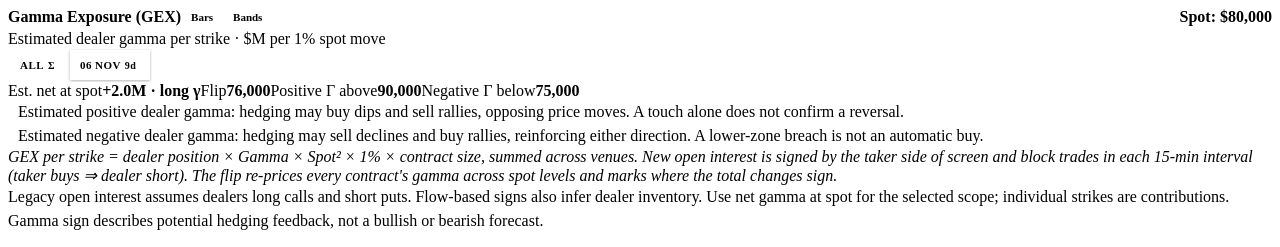
GexView spot reference › uses the aggregate reference when all expiries are selected
What coordinates should you click on to do the following:
click the button "ALL Σ"
I would click on:
 (39, 65)
Its box is [10,50,69,80].
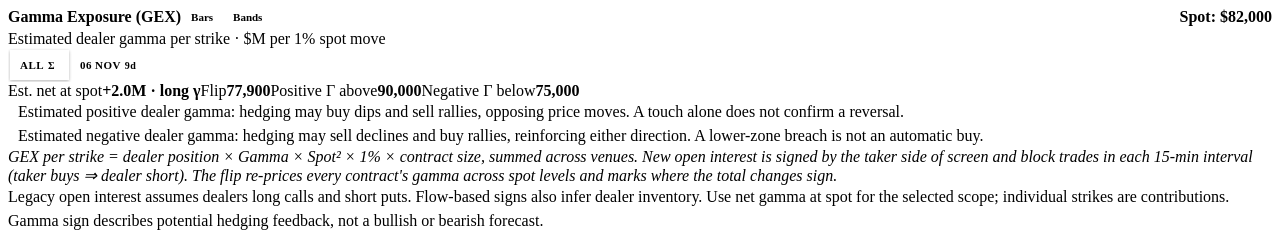
Now the text "77,900" is shown, box [226,82,270,100]
